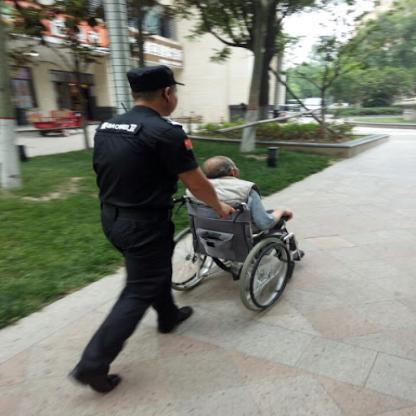wheelchair: (163, 154, 309, 312)
